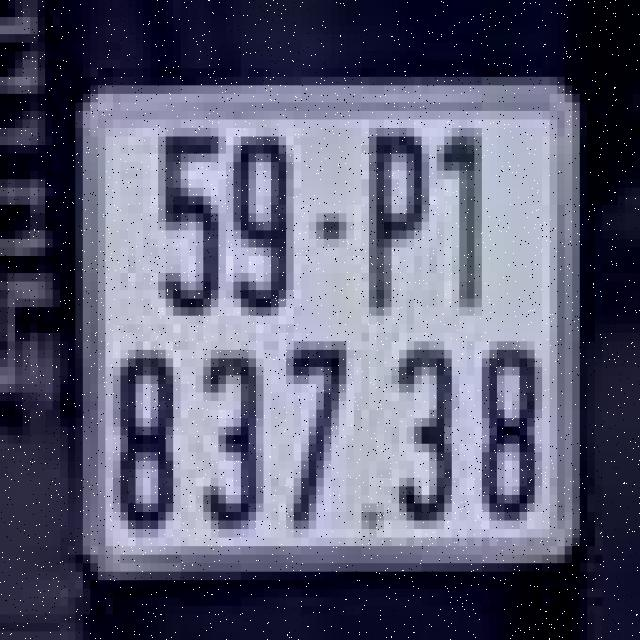1: (433, 115, 493, 312)
3: (388, 333, 463, 529), (200, 333, 268, 529)
5: (154, 115, 230, 329)
7: (282, 332, 350, 554)
8: (105, 346, 188, 533), (474, 337, 550, 525)
9: (222, 119, 305, 316)
P: (350, 124, 433, 337)
